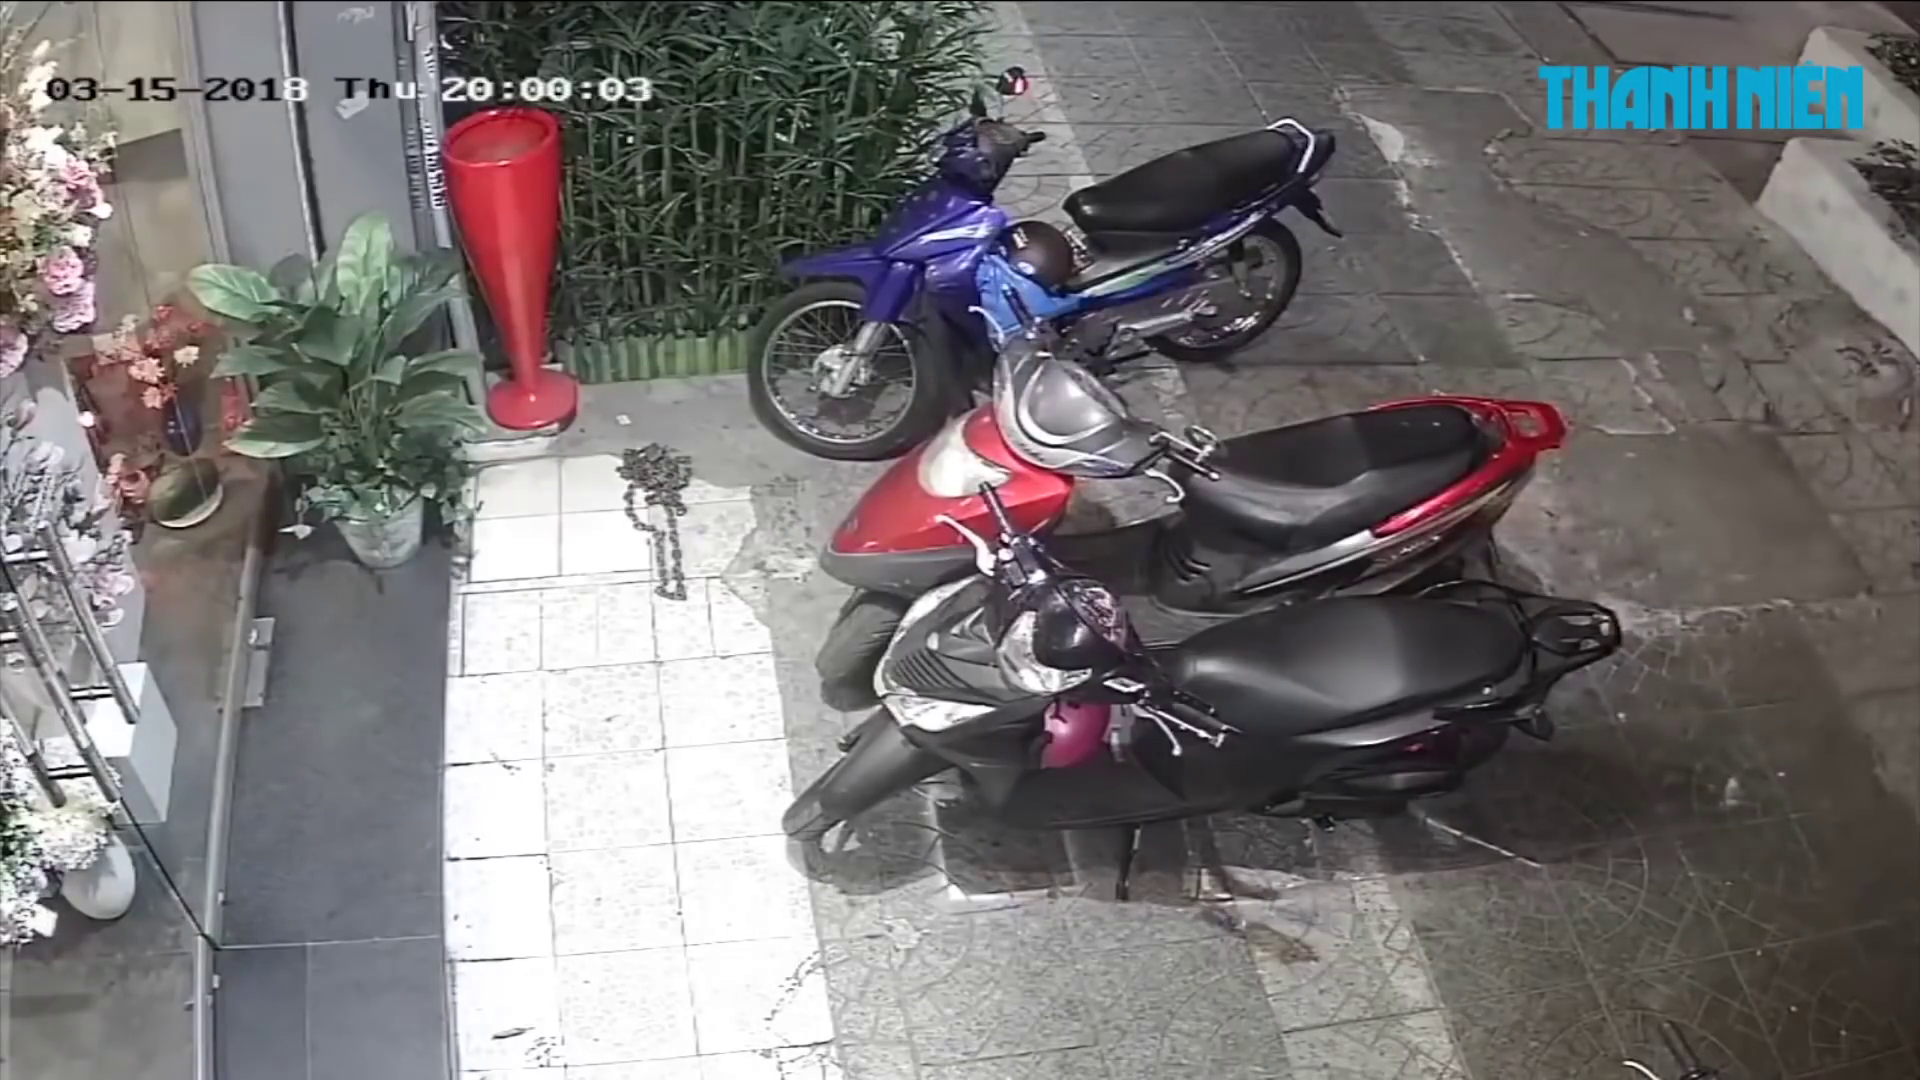Motorcycle: (779, 462, 1626, 866), (812, 332, 1571, 700), (745, 69, 1345, 462)
